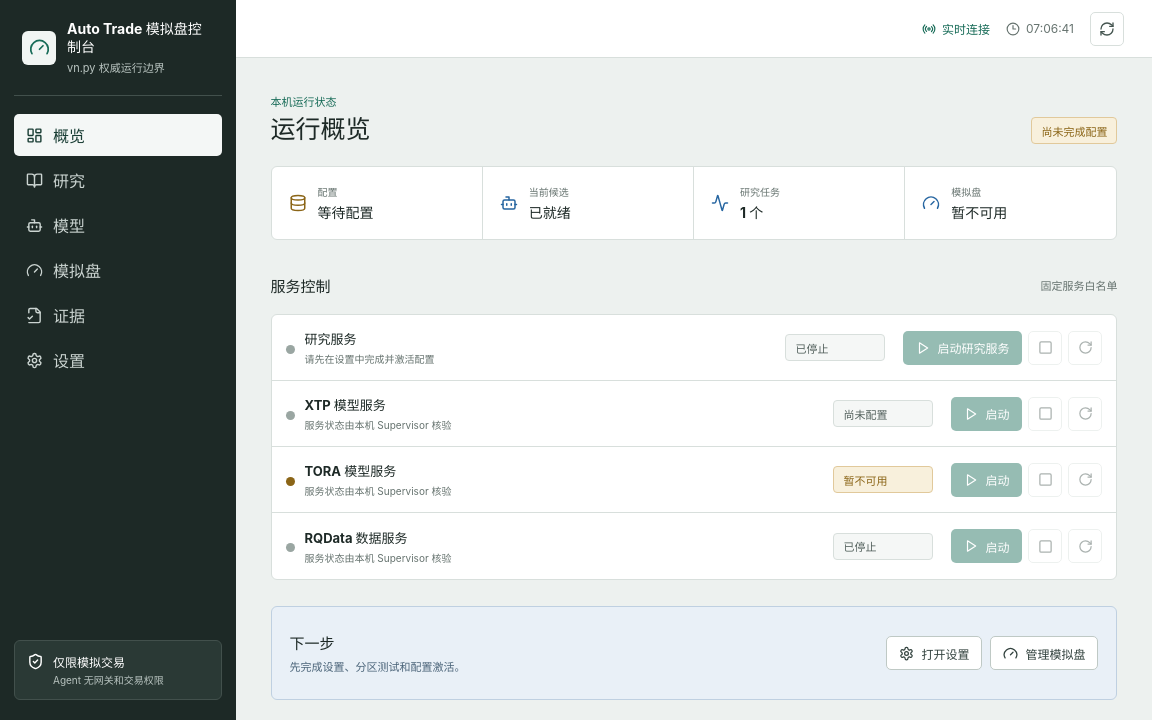
Test: keeps every gateway and campaign action visible with a Chinese blocker and remediation
Expected: the heading "运行概览" is shown, [270,114,370,144]
Click the tab "模拟盘".
click(118, 270)  # box [14,249,222,291]
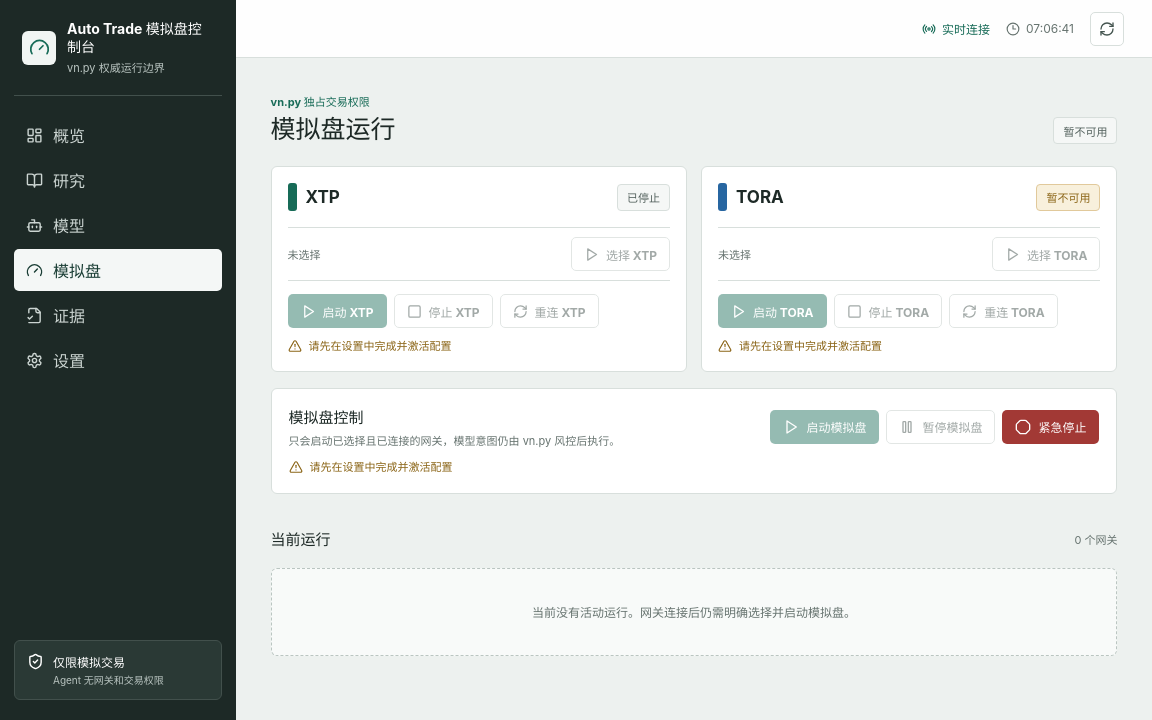
Now the button "启动 XTP" is shown, box [288,294,386,328]
Now the button "停止 XTP" is shown, box [394,294,493,328]
Now the button "重连 XTP" is shown, box [500,294,599,328]
